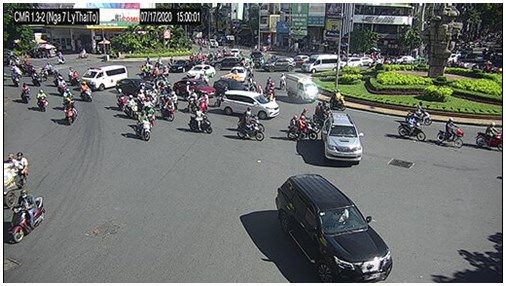xe_cuu_thong: (82, 64, 129, 91)
xe_hoi: (276, 173, 392, 283), (322, 112, 363, 164), (220, 89, 280, 119), (173, 80, 216, 98), (264, 57, 294, 73), (186, 63, 215, 79), (215, 57, 241, 69), (169, 60, 192, 73)
xe_khach: (301, 54, 340, 73)
xe_may: (10, 189, 45, 243), (286, 115, 317, 143), (237, 113, 264, 143), (437, 119, 464, 149), (289, 108, 320, 134), (476, 123, 504, 151), (396, 115, 425, 142), (405, 101, 432, 126), (188, 107, 212, 135), (241, 107, 265, 133), (135, 110, 151, 142), (64, 96, 78, 127), (160, 94, 174, 122), (329, 88, 346, 111), (80, 80, 93, 103), (61, 87, 74, 109), (36, 89, 48, 112), (127, 95, 138, 120), (198, 92, 210, 114), (20, 82, 31, 105), (116, 88, 127, 110), (30, 68, 42, 88), (143, 96, 155, 116), (68, 67, 81, 85), (264, 76, 275, 96), (188, 88, 197, 112), (57, 76, 68, 95), (11, 66, 19, 87), (55, 52, 66, 65), (138, 88, 144, 110), (278, 73, 285, 90), (46, 62, 54, 76)
